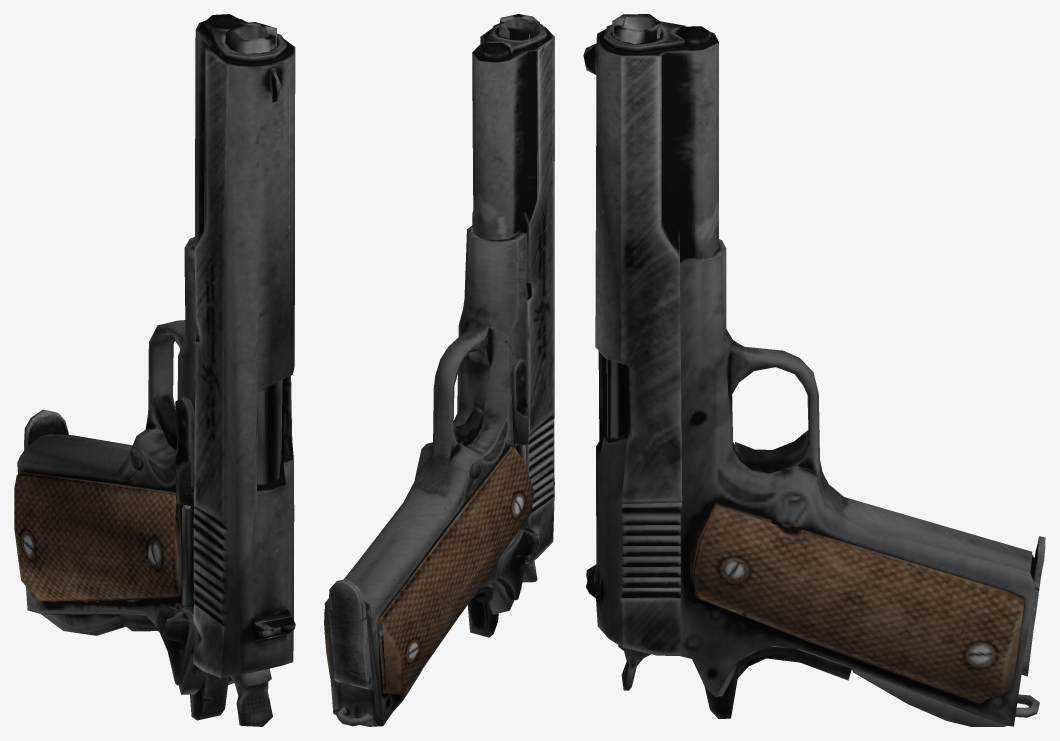
Rendered from Handgun02.fbx.
3 renders of one model, left to right at view 1: azimuth 30°, elevation 25°; view 2: azimuth 150°, elevation 25°; view 3: azimuth 270°, elevation 25°, orthographic. The views are drawn at different scales.
Visible parts, largest first — view 1: Handgun02; view 2: Handgun02; view 3: Handgun02.
Part boxes in pixels (x1,y1,x2,y2): Handgun02: (14, 14, 295, 726); Handgun02: (324, 14, 554, 726); Handgun02: (583, 14, 1045, 726).
Bounding box in the file's own units: 0.0261 × 0.1707 × 0.102.
